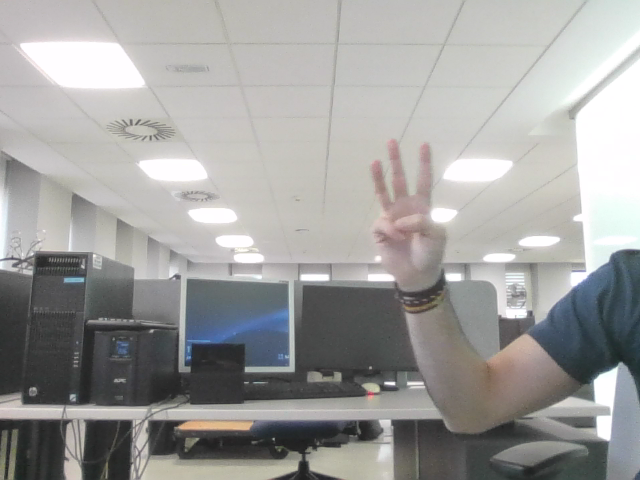3Dedos: (378, 149, 435, 253)
